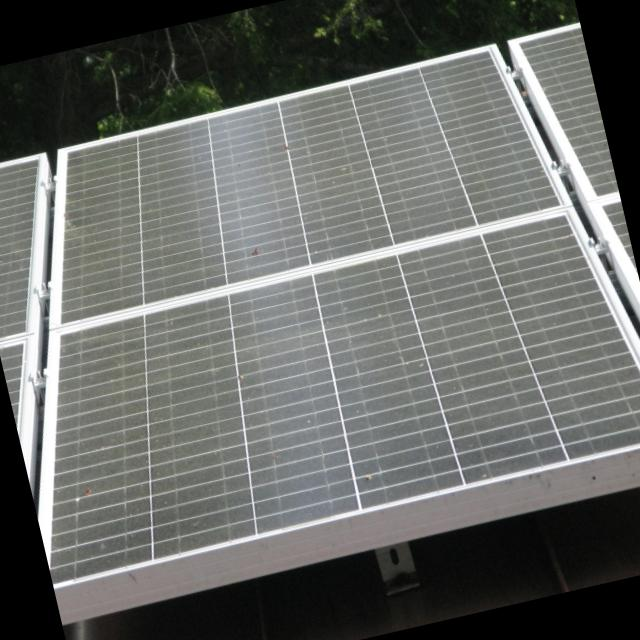faulty: (0, 23, 640, 585)
